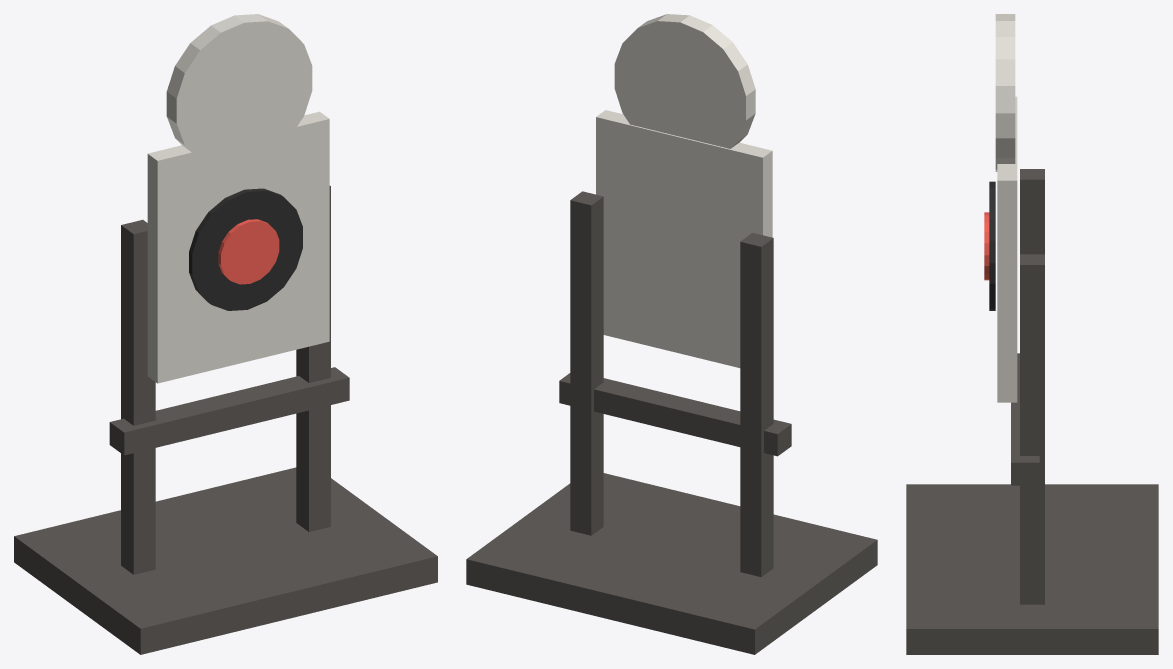
File: map_target_stand_01.glb
The picture shows the model from 3 angles, left to right: view 1: azimuth 30°, elevation 25°; view 2: azimuth 150°, elevation 25°; view 3: azimuth 270°, elevation 25°; orthographic projection. The views are drawn at different scales.
Visible parts, largest first — view 1: geo_stand_base, geo_target_torso_plate, geo_target_head_plate, geo_stand_post_-0.28, geo_stand_crossbar, geo_target_outer_ring, geo_stand_post_+0.28, geo_target_red_center; view 2: geo_stand_base, geo_target_torso_plate, geo_target_head_plate, geo_stand_post_+0.28, geo_stand_post_-0.28, geo_stand_crossbar; view 3: geo_stand_base, geo_stand_post_+0.28, geo_target_torso_plate, geo_target_head_plate, geo_stand_post_-0.28, geo_stand_crossbar, geo_target_outer_ring, geo_target_red_center.
Part boxes in pixels (x1,y1,x2,y2): geo_stand_base: (14,467,437,654); geo_target_torso_plate: (147,111,329,383); geo_target_head_plate: (166,14,312,167); geo_stand_post_-0.28: (121,219,155,574); geo_stand_crossbar: (109,367,349,455); geo_target_outer_ring: (189,188,302,310); geo_stand_post_+0.28: (296,185,330,531); geo_target_red_center: (218,219,279,284); geo_stand_base: (466,473,877,654); geo_target_torso_plate: (596,110,772,367); geo_target_head_plate: (614,14,755,148); geo_stand_post_+0.28: (570,191,603,535); geo_stand_post_-0.28: (740,233,773,577); geo_stand_crossbar: (559,373,791,456); geo_stand_base: (906,484,1158,654); geo_stand_post_+0.28: (1020,254,1044,604); geo_target_torso_plate: (997,96,1017,402); geo_target_head_plate: (995,14,1015,171); geo_stand_post_-0.28: (1020,169,1044,254); geo_stand_crossbar: (1011,353,1039,485); geo_target_outer_ring: (989,181,995,310); geo_target_red_center: (984,212,989,280).
Bounding box in the file's own units: 0.95 × 1.72 × 0.7.
